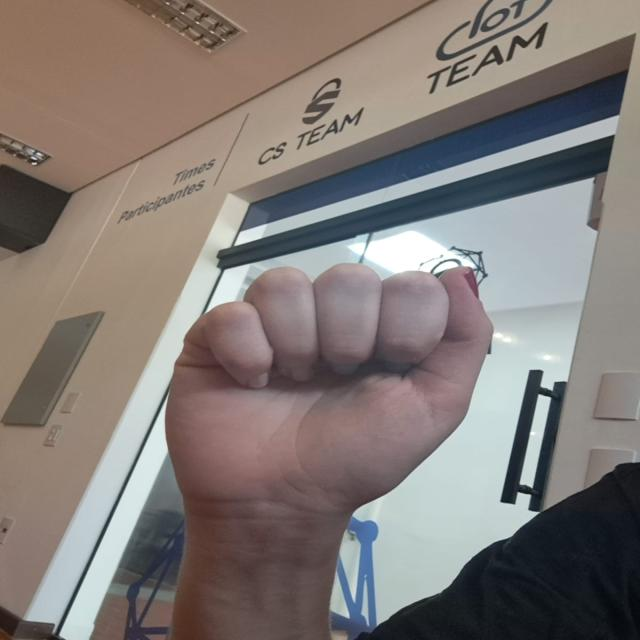A: (128, 256, 525, 528)
